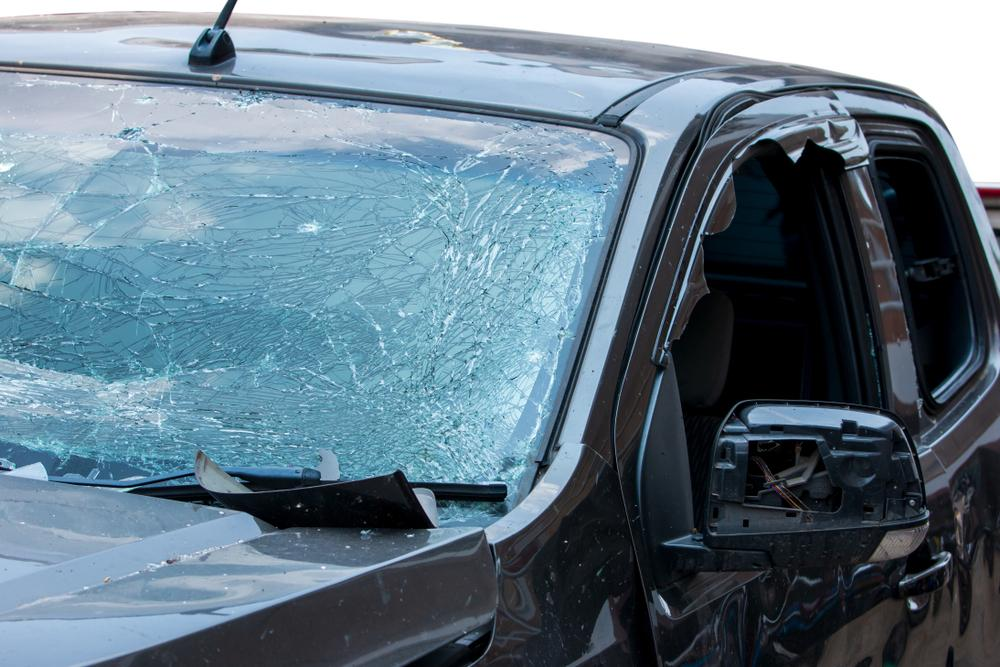glass shatter: (0, 70, 630, 485)
